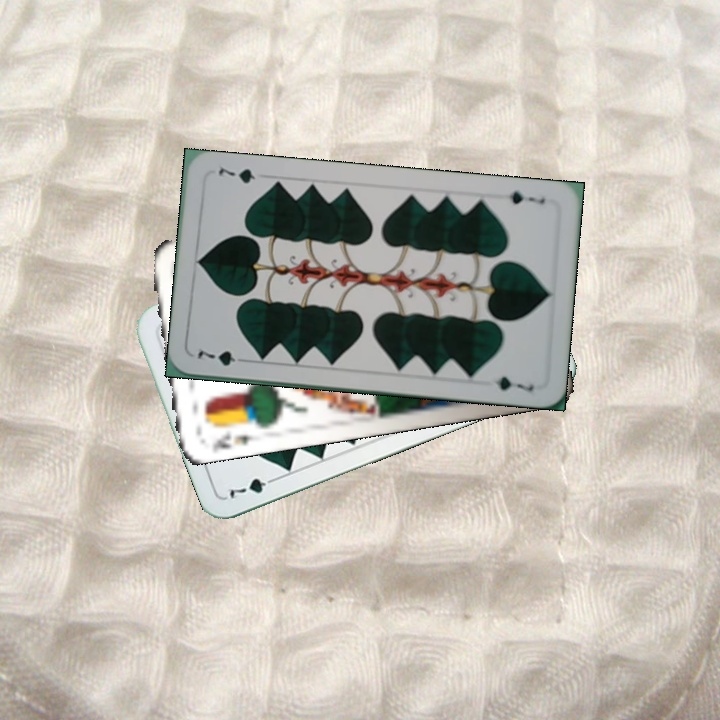EK: (209, 427, 261, 451)
G7: (225, 473, 281, 504), (193, 345, 251, 369), (505, 187, 548, 207)
